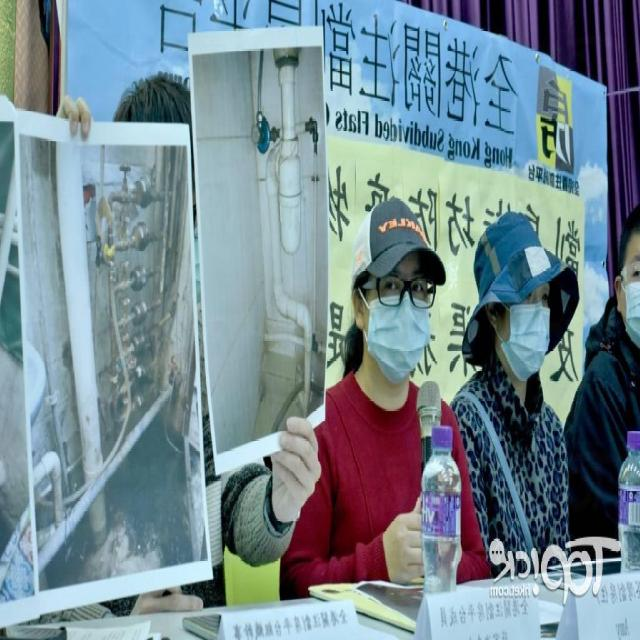face: (344, 197, 445, 399), (475, 215, 560, 391), (608, 190, 638, 358)
